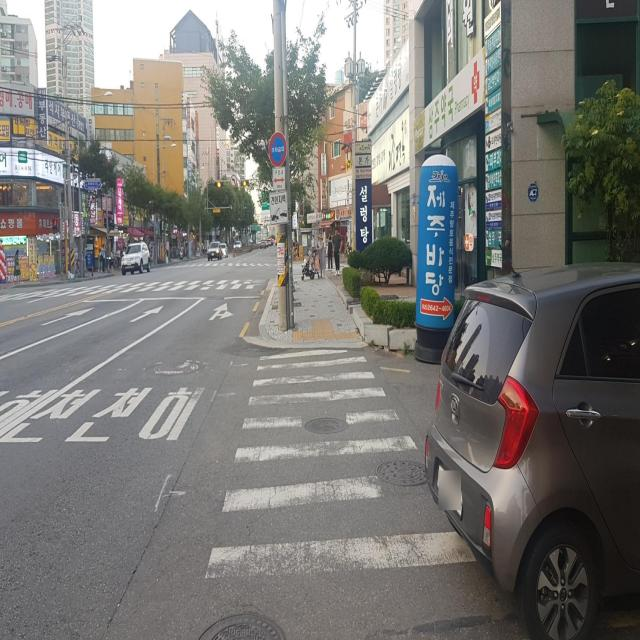빨간불: (52, 216, 58, 236)
횡단보도: (202, 342, 480, 584), (0, 270, 271, 302)
